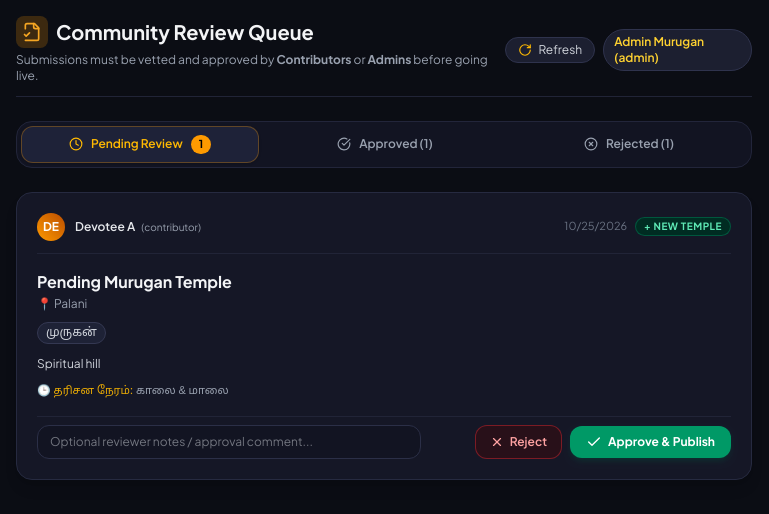
Test: Phase 2: ReviewTab Component Boundary & Resilience Tests › filters submissions accurately between Pending, Approved, and Rejected sub-tabs
Expected: the heading "Pending Murugan Temple" is shown, [37,271,232,292]
Expected: the text "Approved Shiva Temple" is not shown
Note: Click Approved tab
Step 1. Click the button "Approved (1)" → [385, 144], box [267,128,503,160]
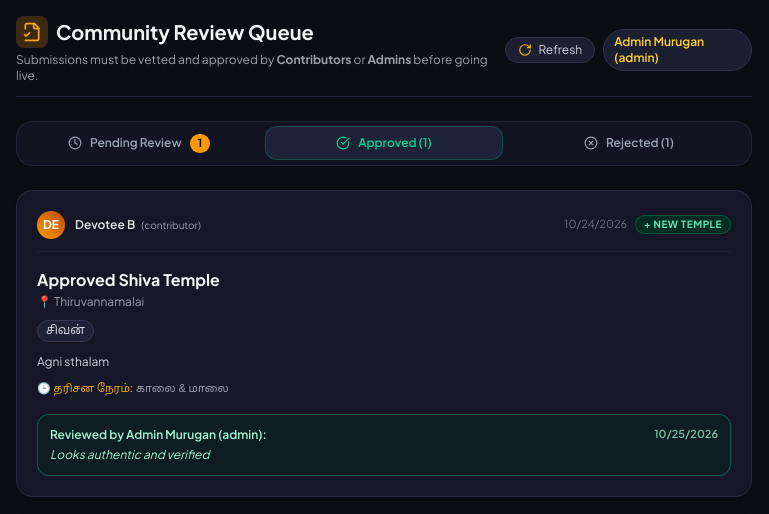
Expected: the heading "Approved Shiva Temple" is shown, [37,269,220,290]
Expected: the text "Looks authentic and verified" is shown, [50,447,209,462]
Expected: the heading "Pending Murugan Temple" is gone
Note: Click Rejected tab
Step 2. Click the button "Rejected (1)" → [629, 143], box [511,127,747,159]
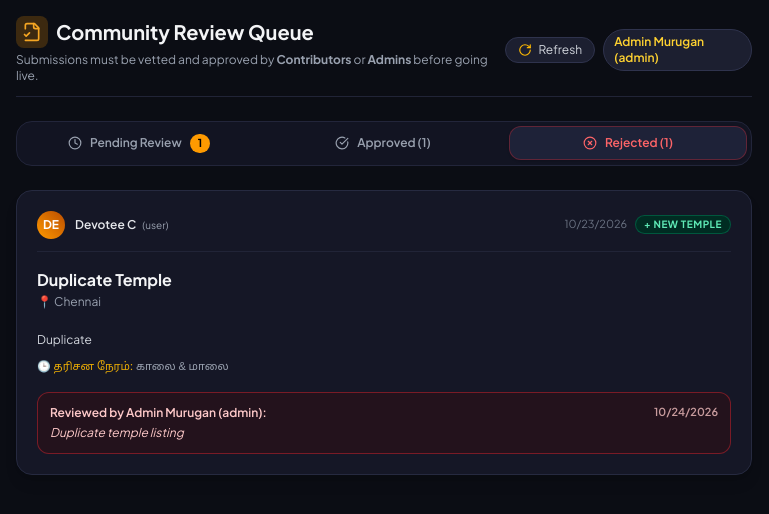
Expected: the heading "Duplicate Temple" is shown, [37,269,172,290]
Expected: the text "Duplicate temple listing" is shown, [50,425,184,440]
